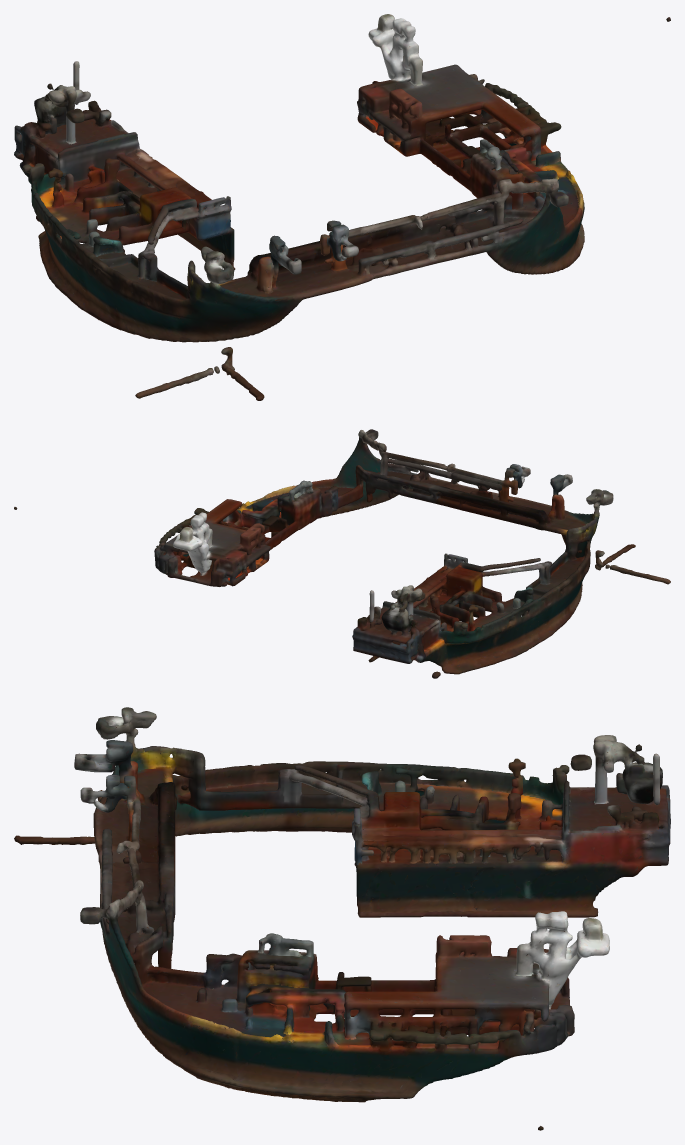
Rendered from multi_logit_mean_spv3_2026-05-06T110156.349.glb.
3 views of the same model, one above another, from view 1: azimuth 30°, elevation 25°; view 2: azimuth 150°, elevation 25°; view 3: azimuth 270°, elevation 25° (orthographic). The views are drawn at different scales.
Parts seen in each view (by area): view 1: world; view 2: world; view 3: world.
Boxes of the visible parts, x1,y1,x2,y2 form: world: [14, 14, 670, 400]; world: [14, 429, 670, 678]; world: [14, 707, 670, 1130].
Size of the model in its own units: 0.3699 by 0.0647 by 0.2489.
1 material, 1 textured.
